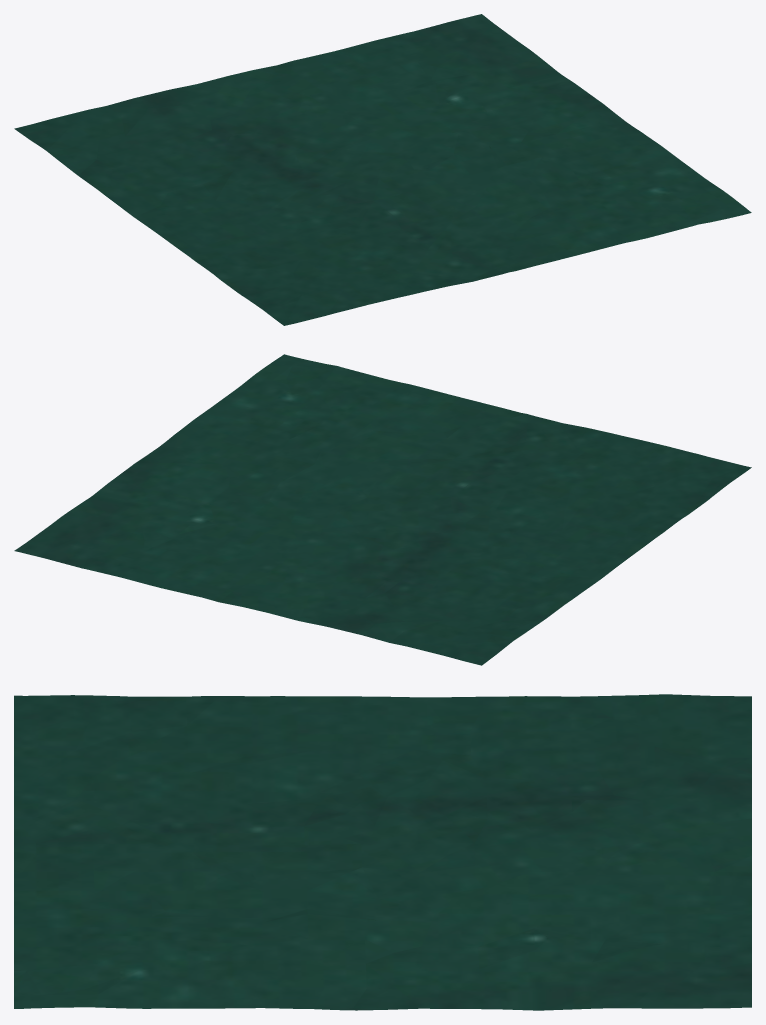
The picture shows the model from 3 angles, top to bottom: view 1: azimuth 30°, elevation 25°; view 2: azimuth 150°, elevation 25°; view 3: azimuth 270°, elevation 25°; orthographic projection. The views are drawn at different scales.
Bounding box in the file's own units: 52.22 × 0.4331 × 52.22.
Materials: 2 (2 with a texture image).
